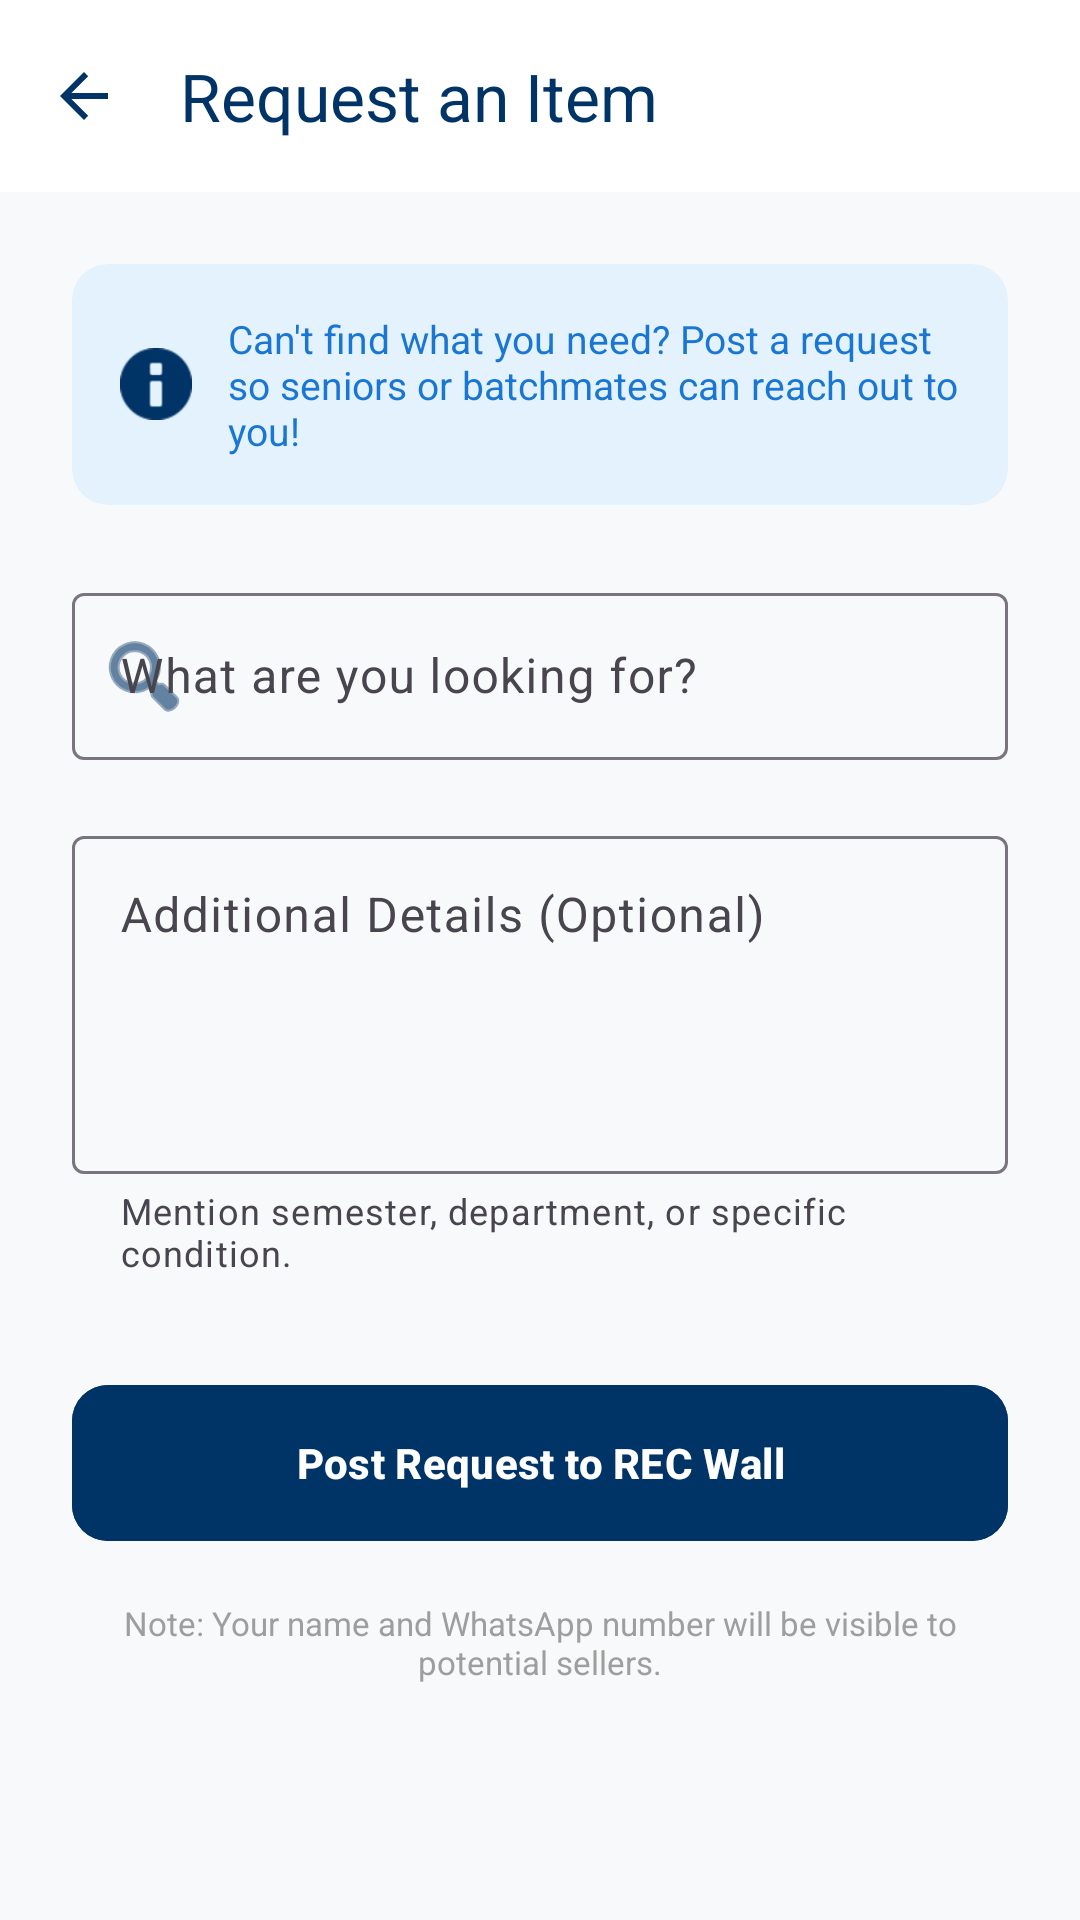

Screen size 1080w x 1920h. Icon name, then its box in pixels as box(x1, y1, x2, y2):
info: box(120, 348, 192, 420)
